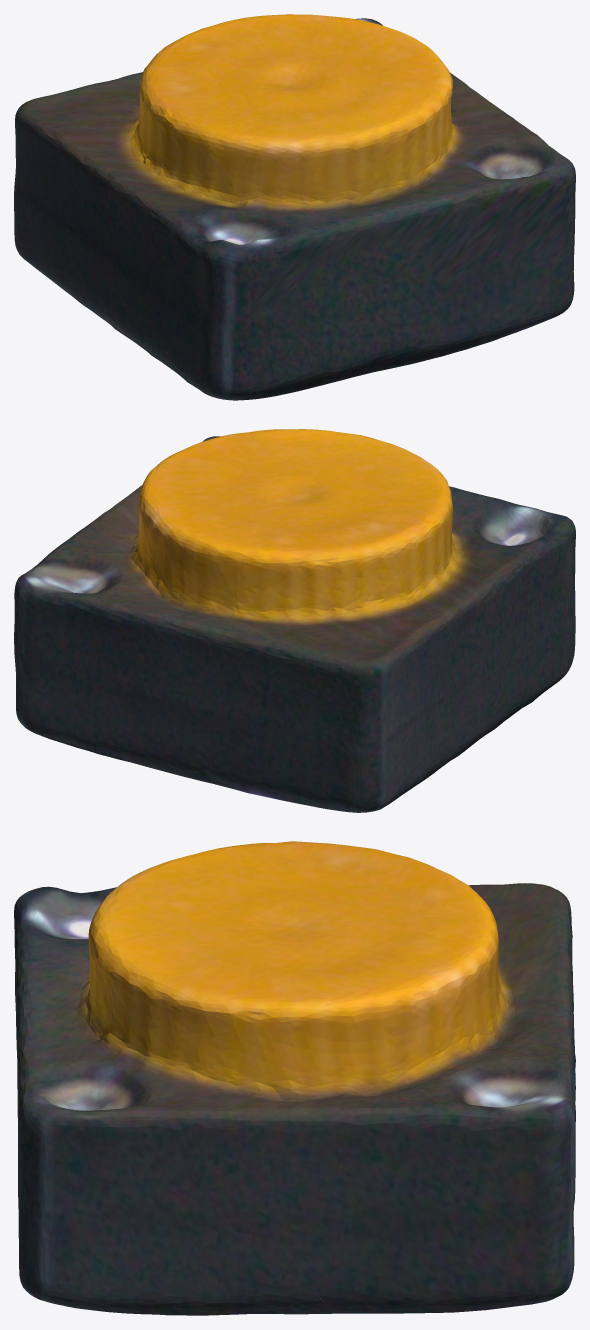
Rendered from suquarebottlecapwithjig_reoriented.obj.
3 views of the same model, one above another, from view 1: azimuth 30°, elevation 25°; view 2: azimuth 150°, elevation 25°; view 3: azimuth 270°, elevation 25° (orthographic). The views are drawn at different scales.
Visible parts, largest first — view 1: suquarebottlecapwithjig; view 2: suquarebottlecapwithjig; view 3: suquarebottlecapwithjig.
Part boxes in pixels (x1,y1,x2,y2): suquarebottlecapwithjig: (14, 14, 575, 400); suquarebottlecapwithjig: (14, 429, 575, 812); suquarebottlecapwithjig: (14, 841, 575, 1315).
Size of the model in its own units: 0.0502 by 0.0322 by 0.0503.
Materials: 1 (1 with a texture image).
